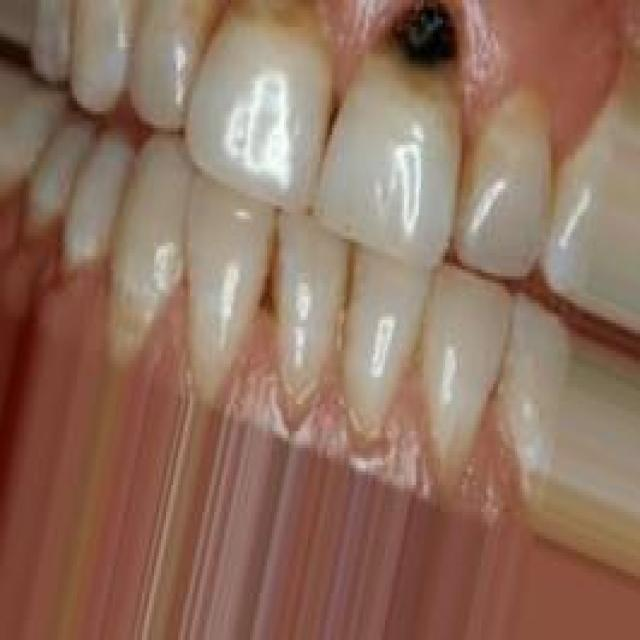caries: (368, 0, 477, 128)
